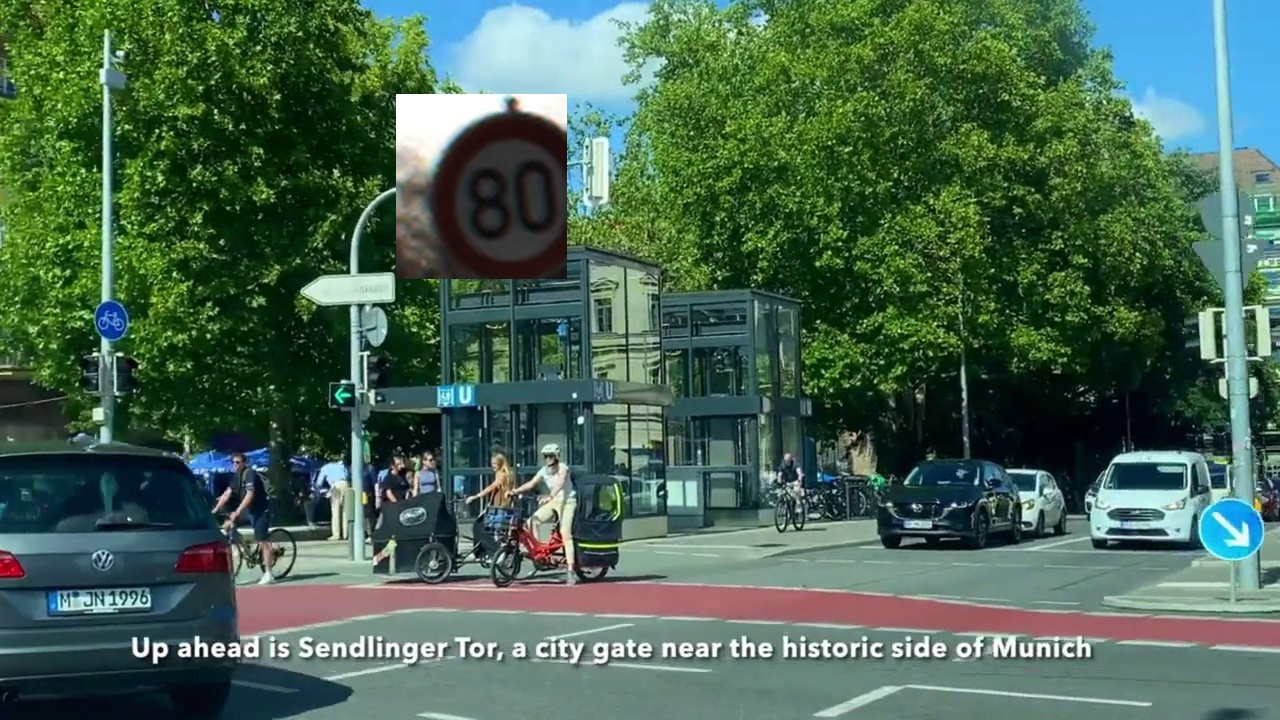Speed 80: (396, 94, 567, 279)
